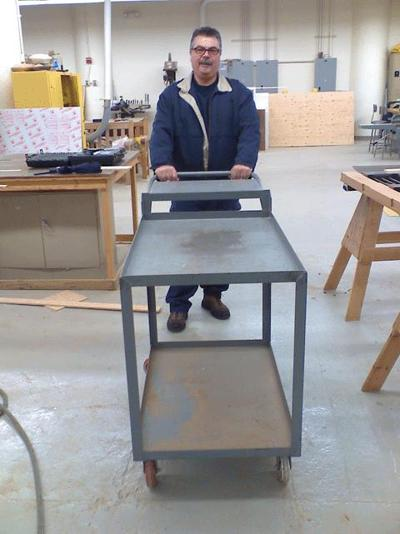person: (151, 26, 263, 333)
